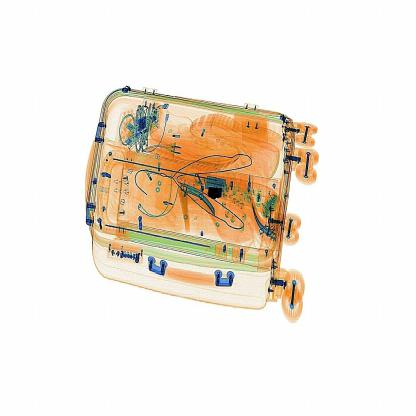scissors: (204, 181, 238, 210)
